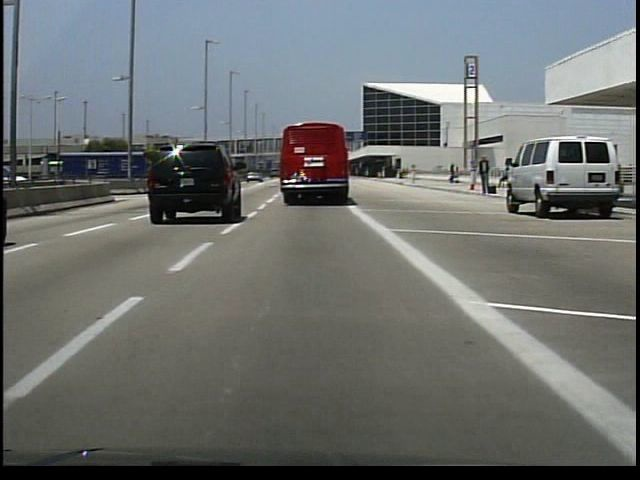person: (476, 154, 493, 201), (497, 166, 512, 192)
